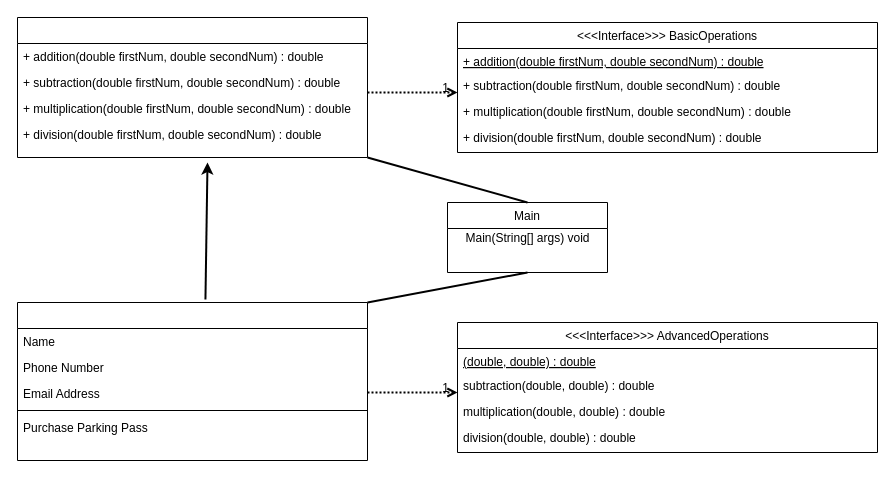
This 895x478 diagram has some shape labels left out. The box of each missing label's shape, as (x1, y1, x2, y2) in pixels:
AdvancedCalculator: (16, 302, 368, 460)
BasicCalculator: (16, 16, 368, 158)
